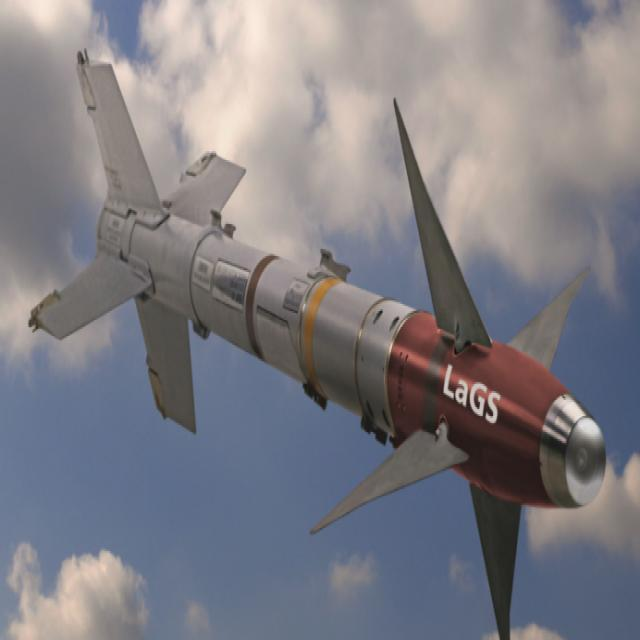missile: (18, 48, 614, 640)
